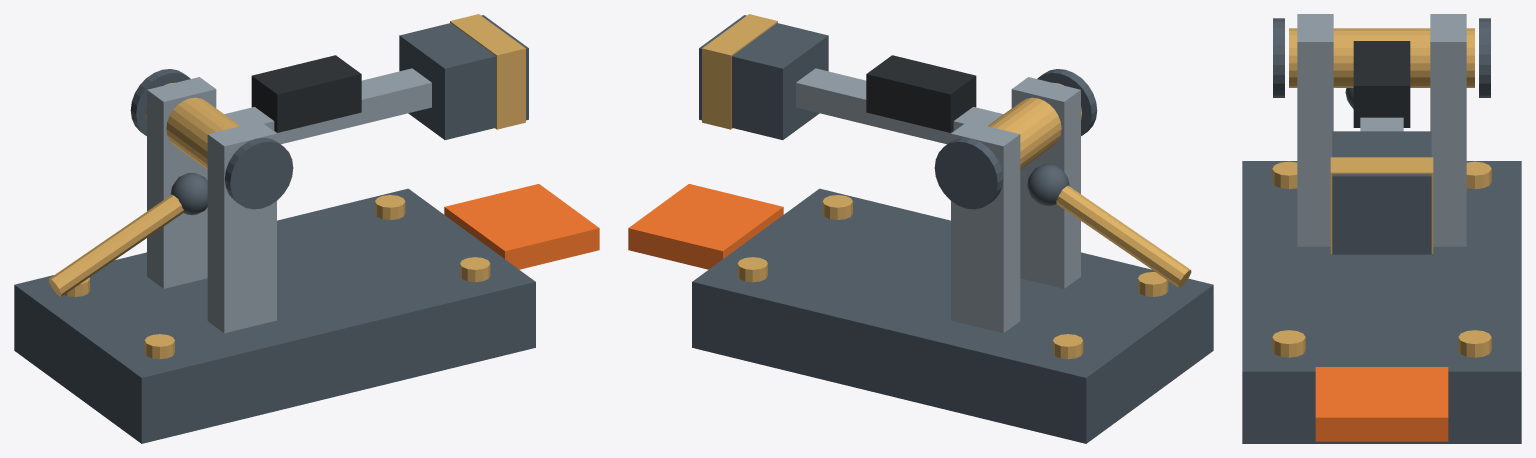
File: Hammer.glb
3 renders of one model, left to right at view 1: azimuth 30°, elevation 25°; view 2: azimuth 150°, elevation 25°; view 3: azimuth 270°, elevation 25°, orthographic. The views are drawn at different scales.
Visible parts, largest first — view 1: Trigger_Base_Plate, Pivot_Support, Trigger_Hammer_Head, Pivot_Support.001, Vial_Target_Base, Lever_Grip, Trigger_Lever, Pivot_End_Cap, Hammer_Striking_Face, Detector_Connecting_Rod, Pivot_Axle, Pivot_End_Cap.001 (+4 smaller); view 2: Trigger_Base_Plate, Pivot_Support.001, Pivot_Support, Trigger_Hammer_Head, Vial_Target_Base, Lever_Grip, Trigger_Lever, Pivot_End_Cap.001, Hammer_Striking_Face, Detector_Connecting_Rod, Pivot_Axle, Connecting_Rod_Joint (+5 smaller); view 3: Trigger_Base_Plate, Trigger_Hammer_Head, Vial_Target_Base, Pivot_Support, Pivot_Support.001, Lever_Grip, Pivot_Axle, Hammer_Striking_Face, Pivot_End_Cap, Pivot_End_Cap.001, Base_Mounting_Bolt.002, Base_Mounting_Bolt.003 (+3 smaller).
Part boxes in pixels (x1,y1,x2,y2): Trigger_Base_Plate: (14, 188, 535, 443); Pivot_Support: (207, 121, 276, 333); Trigger_Hammer_Head: (399, 15, 528, 139); Pivot_Support.001: (147, 77, 216, 288); Vial_Target_Base: (444, 184, 599, 269); Lever_Grip: (251, 55, 361, 132); Trigger_Lever: (224, 68, 431, 144); Pivot_End_Cap: (224, 137, 293, 209); Hammer_Striking_Face: (450, 14, 525, 129); Detector_Connecting_Rod: (49, 194, 183, 296); Pivot_Axle: (146, 82, 239, 169); Pivot_End_Cap.001: (130, 69, 190, 135); Trigger_Base_Plate: (692, 188, 1213, 443); Pivot_Support.001: (951, 121, 1020, 333); Pivot_Support: (1011, 77, 1080, 288); Trigger_Hammer_Head: (699, 15, 828, 139); Vial_Target_Base: (628, 184, 783, 269); Lever_Grip: (866, 55, 976, 132); Trigger_Lever: (796, 68, 1003, 144); Pivot_End_Cap.001: (934, 137, 1003, 209); Hammer_Striking_Face: (702, 14, 777, 129); Detector_Connecting_Rod: (1056, 185, 1191, 287); Pivot_Axle: (988, 82, 1081, 169); Connecting_Rod_Joint: (1027, 164, 1069, 206); Trigger_Base_Plate: (1242, 161, 1521, 443); Trigger_Hammer_Head: (1332, 131, 1431, 254); Vial_Target_Base: (1315, 367, 1448, 441); Pivot_Support: (1297, 14, 1333, 246); Pivot_Support.001: (1430, 14, 1466, 246); Lever_Grip: (1353, 41, 1410, 127); Pivot_Axle: (1289, 28, 1474, 87); Hammer_Striking_Face: (1330, 157, 1433, 253); Pivot_End_Cap: (1273, 18, 1284, 97); Pivot_End_Cap.001: (1479, 18, 1490, 97); Base_Mounting_Bolt.002: (1272, 330, 1305, 357); Base_Mounting_Bolt.003: (1458, 330, 1491, 357).
Size of the model in its own units: 0.997 by 0.485 by 0.42.
